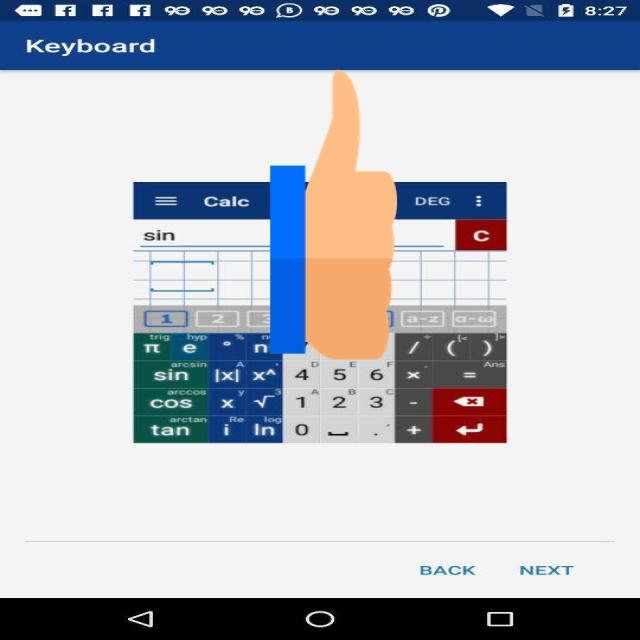privacy zuckering: (270, 62, 397, 366)
